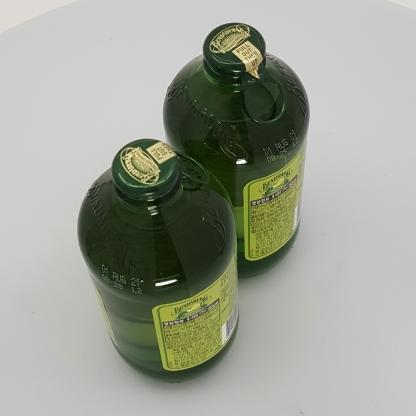------------375ML: (77, 139, 239, 383), (163, 22, 310, 279)
